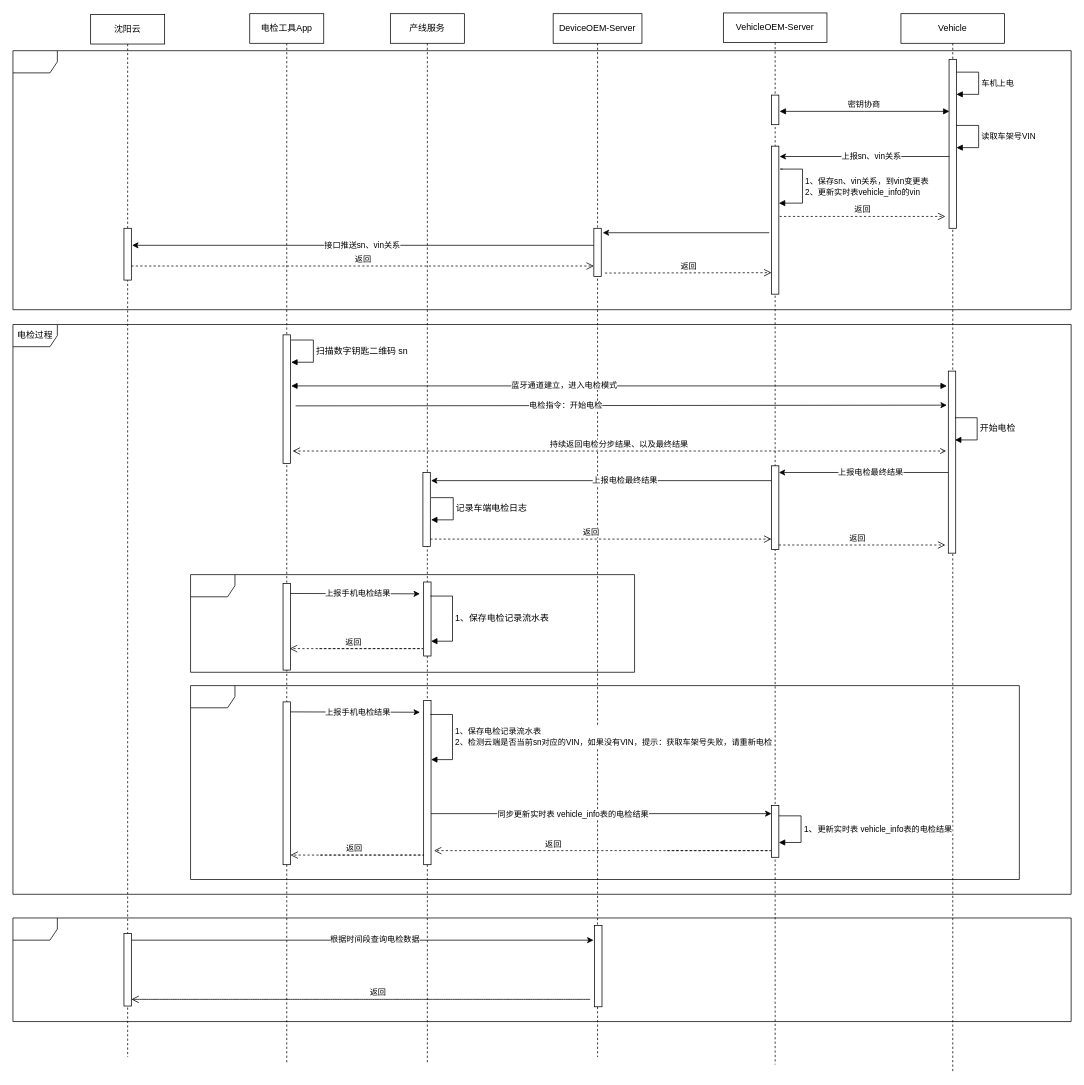
Some shapes in this 1084 by 1085 pixel diagram are drawn without their labels. Each missing label, with the box of its shape:
手机电检失败上报: (190, 574, 635, 672)
手机电检成功上报: (190, 685, 1019, 879)
电检结果数据同步: (12, 917, 1071, 1022)
车辆上电过程: (12, 50, 1071, 310)
